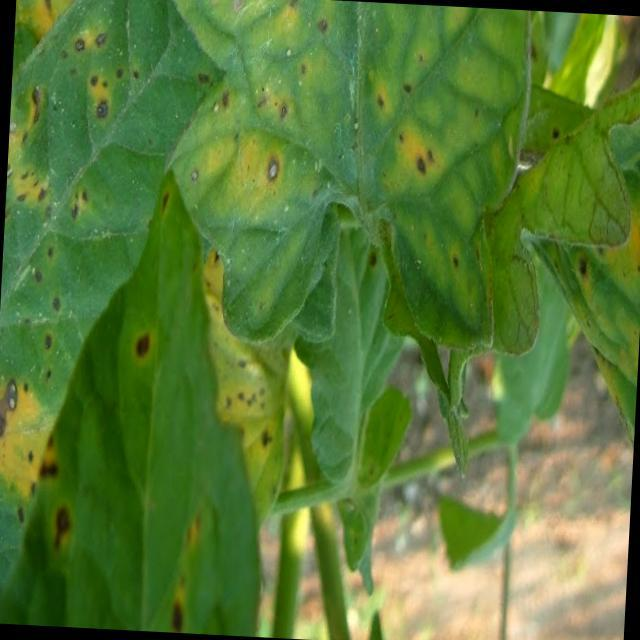Tomato Septoria spot leaf: (0, 0, 230, 634), (151, 0, 544, 358), (0, 169, 282, 637)
